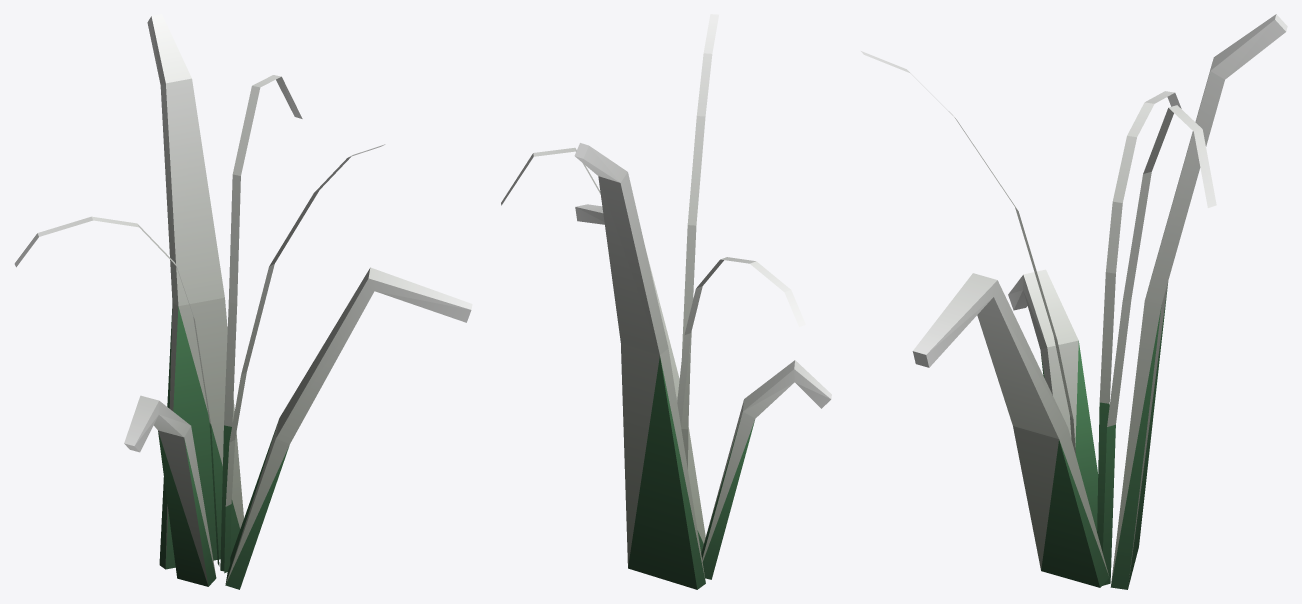
File: SnowGrass1.fbx
The picture shows the model from 3 angles, left to right: view 1: azimuth 30°, elevation 25°; view 2: azimuth 150°, elevation 25°; view 3: azimuth 270°, elevation 25°; orthographic projection. The views are drawn at different scales.
Visible parts, largest first — view 1: SnowGrass1; view 2: SnowGrass1; view 3: SnowGrass1.
Boxes of the visible parts, box(x1,y1,x2,y2) form: SnowGrass1: box(14, 14, 472, 589); SnowGrass1: box(501, 14, 831, 589); SnowGrass1: box(861, 14, 1287, 589).
Size of the model in its own units: 132 by 182 by 123.
